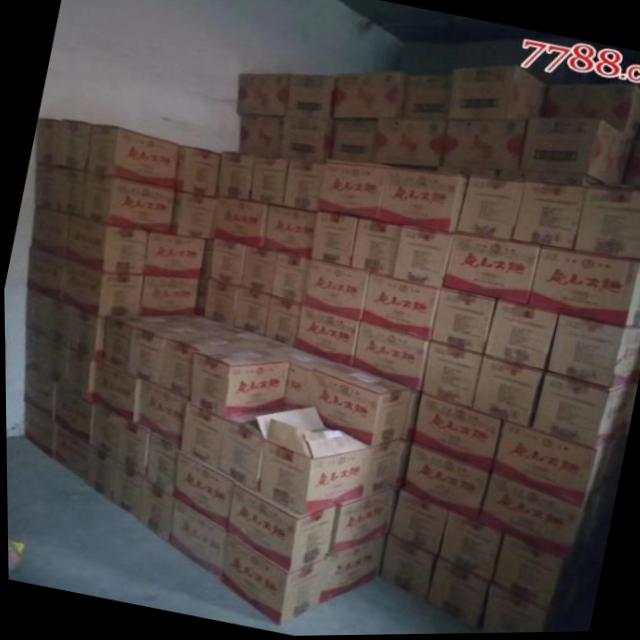box: (255, 407, 373, 515), (487, 423, 626, 510), (476, 474, 613, 561), (282, 360, 418, 447), (224, 479, 334, 574), (215, 536, 327, 625), (527, 247, 640, 328), (531, 372, 637, 451), (515, 120, 636, 188), (401, 440, 492, 522), (544, 314, 640, 391), (412, 394, 505, 473), (188, 345, 288, 418), (442, 234, 541, 307), (217, 408, 297, 492), (491, 535, 573, 611), (541, 84, 640, 145), (85, 124, 179, 188), (348, 321, 430, 394), (78, 173, 176, 233), (379, 167, 466, 233), (359, 271, 442, 340), (438, 119, 528, 182), (159, 329, 233, 402), (170, 449, 233, 534), (447, 68, 548, 121), (483, 301, 557, 373), (570, 188, 640, 262), (196, 326, 330, 364), (510, 185, 587, 251), (63, 217, 149, 275), (423, 557, 492, 629), (474, 356, 543, 427), (437, 510, 502, 585), (63, 260, 143, 320), (127, 320, 195, 389), (91, 403, 152, 479), (454, 178, 526, 241), (430, 289, 497, 356), (315, 164, 392, 222), (319, 536, 386, 602), (421, 340, 483, 411), (167, 502, 225, 577), (294, 304, 359, 367), (389, 226, 451, 292), (105, 314, 171, 376), (300, 261, 368, 321), (389, 488, 448, 557), (328, 492, 388, 554), (378, 537, 435, 601), (374, 120, 448, 168), (332, 73, 405, 121), (209, 197, 270, 249), (483, 584, 545, 634), (260, 205, 316, 259), (351, 219, 402, 278), (61, 300, 109, 362), (179, 403, 224, 469), (144, 231, 205, 279), (93, 362, 141, 423), (140, 381, 185, 446), (34, 161, 82, 217), (141, 432, 180, 499), (282, 117, 337, 164), (310, 212, 357, 267), (54, 385, 94, 449), (23, 289, 66, 347), (137, 277, 199, 317), (283, 74, 337, 119), (59, 343, 96, 408), (176, 144, 222, 196), (137, 480, 174, 544), (400, 77, 455, 120), (370, 441, 412, 497), (234, 73, 287, 117), (23, 324, 60, 386), (280, 161, 324, 212), (331, 121, 380, 166), (51, 426, 90, 482), (171, 192, 217, 239), (269, 253, 310, 305), (26, 246, 64, 300), (263, 296, 301, 349), (248, 156, 288, 206), (238, 247, 278, 297), (207, 240, 248, 288), (21, 365, 54, 423), (29, 207, 67, 257), (107, 466, 142, 520), (232, 288, 270, 337), (239, 115, 283, 157), (201, 278, 239, 326), (217, 153, 254, 202), (24, 404, 55, 461), (80, 450, 115, 500), (57, 120, 91, 170), (157, 314, 234, 330), (36, 117, 58, 164)
